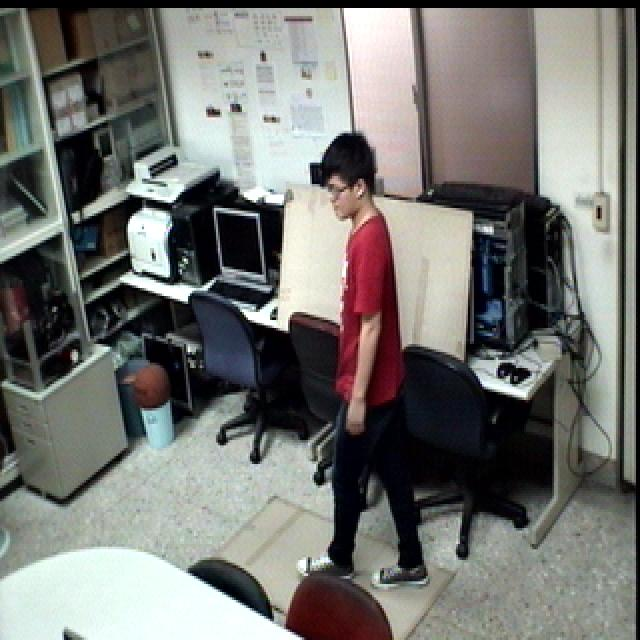stand: (308, 124, 430, 592)
